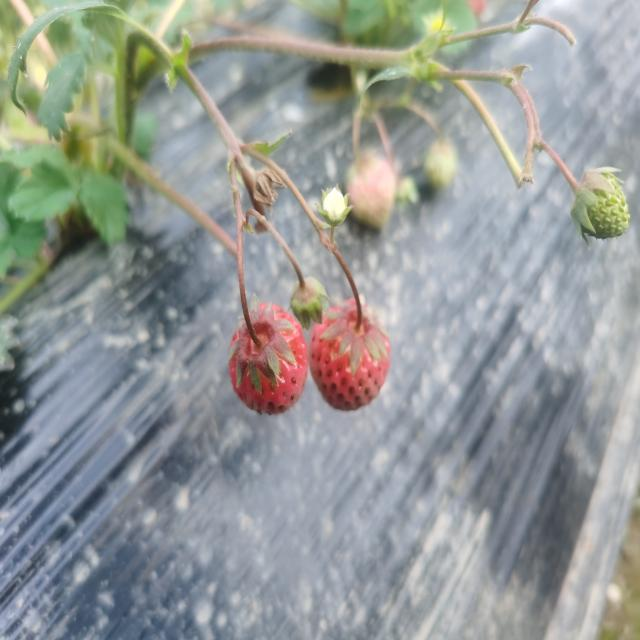stem: (240, 291, 264, 352), (346, 272, 362, 334)
strawberry: (309, 299, 390, 411), (229, 303, 308, 414)
